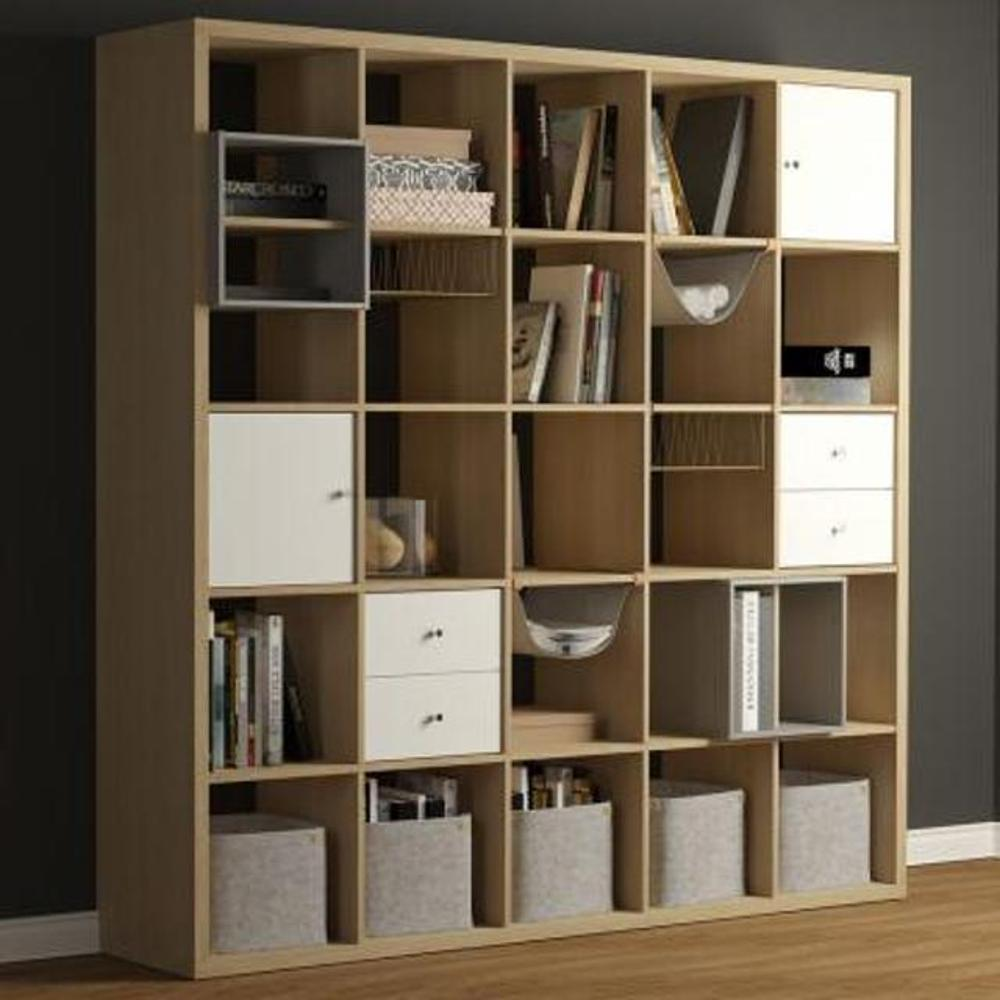lamp: (93, 13, 916, 987)
